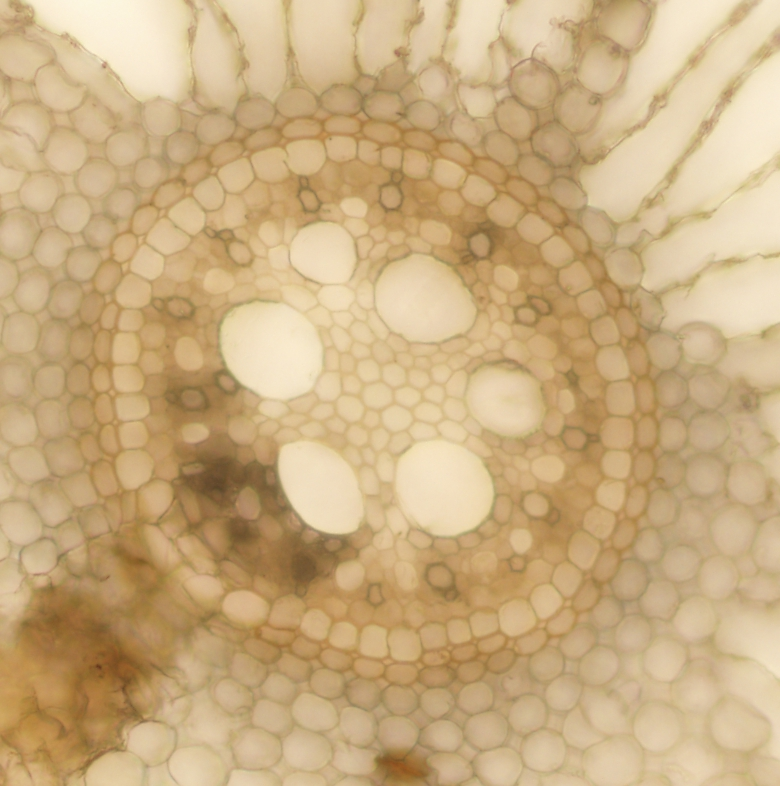lm: (219, 298, 325, 399), (393, 437, 494, 539), (374, 250, 478, 345), (276, 439, 363, 533), (464, 358, 545, 436), (288, 218, 358, 288)
